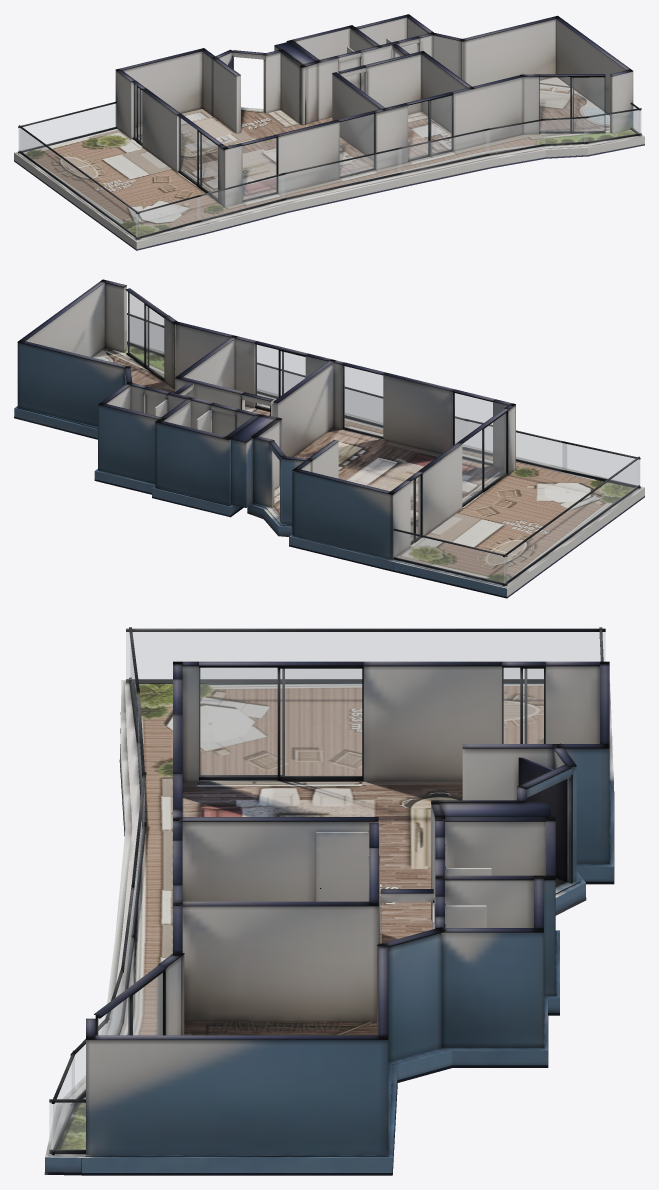
The picture shows the model from 3 angles, top to bottom: view 1: azimuth 30°, elevation 25°; view 2: azimuth 150°, elevation 25°; view 3: azimuth 270°, elevation 25°; orthographic projection. The views are drawn at different scales.
Visible parts, largest first — view 1: plan, glass5_m, railg7_m, railg2_m, railg0_m, railg6_m, glass4_m, railg8_m, glass0_m, glass3_m, glass2_m, railg9_m (+4 smaller); view 2: plan, railg2_m, railg0_m, glass0_m, glass3_m, glass5_m, glass4_m, glass2_m, railg9_m, railg8_m, railg7_m, railg6_m (+2 smaller); view 3: plan, glass0_m, railg2_m, glass1_m, glass5_m, railg1_m, railg3_m.
Boxes of the visible parts, box(x1,y1,x2,y2) form: plan: box(14, 14, 644, 250); glass5_m: box(539, 77, 604, 131); railg7_m: box(281, 149, 401, 198); railg2_m: box(19, 128, 138, 237); railg0_m: box(18, 104, 116, 151); railg6_m: box(398, 130, 489, 172); glass4_m: box(408, 96, 451, 159); railg8_m: box(197, 175, 284, 220); glass0_m: box(179, 117, 217, 198); glass3_m: box(340, 114, 374, 176); glass2_m: box(243, 138, 276, 199); railg9_m: box(136, 197, 200, 237); plan: box(14, 279, 644, 598); railg2_m: box(504, 459, 638, 583); railg0_m: box(394, 531, 506, 583); glass0_m: box(462, 413, 505, 504); glass3_m: box(344, 366, 382, 436); glass5_m: box(127, 292, 163, 377); glass4_m: box(255, 345, 305, 409); glass2_m: box(454, 393, 492, 463); railg9_m: box(562, 443, 639, 485); railg8_m: box(469, 422, 566, 470); railg7_m: box(345, 389, 467, 443); railg6_m: box(257, 365, 304, 396); plan: box(44, 627, 614, 1175); glass0_m: box(199, 668, 361, 776); railg2_m: box(126, 632, 605, 679); glass1_m: box(502, 668, 543, 743); glass5_m: box(98, 973, 162, 1034); railg1_m: box(49, 1103, 85, 1149); railg3_m: box(53, 1057, 74, 1151).
Size of the model in its own units: 20.04 by 2.62 by 10.08.
2 materials, 1 textured.
